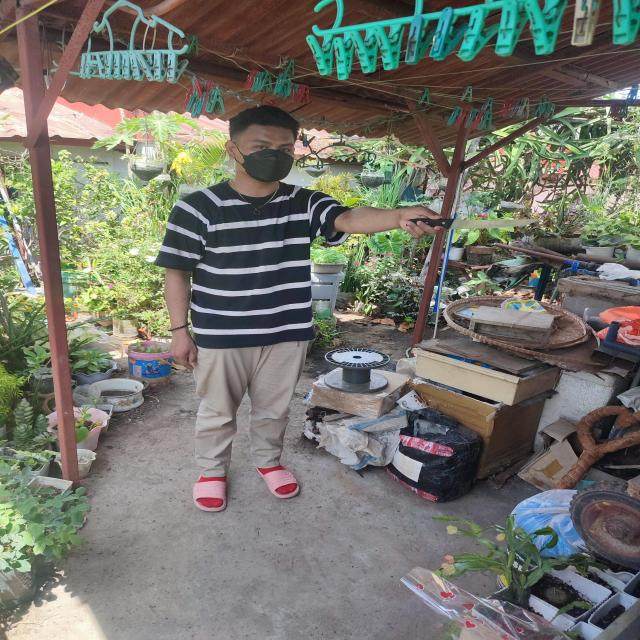knife: (427, 219, 539, 229)
